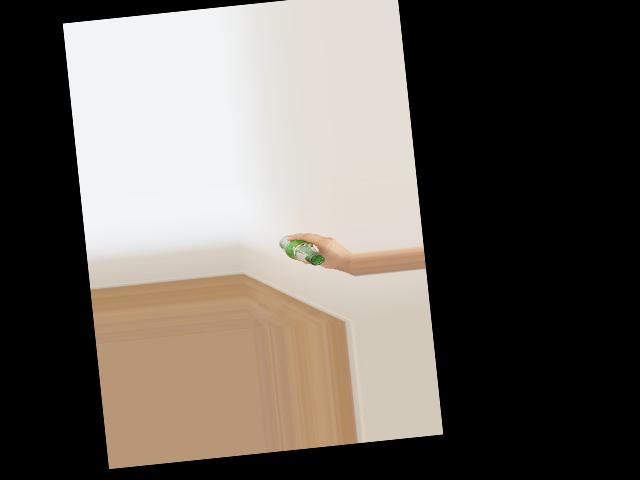beer: (278, 232, 325, 270)
